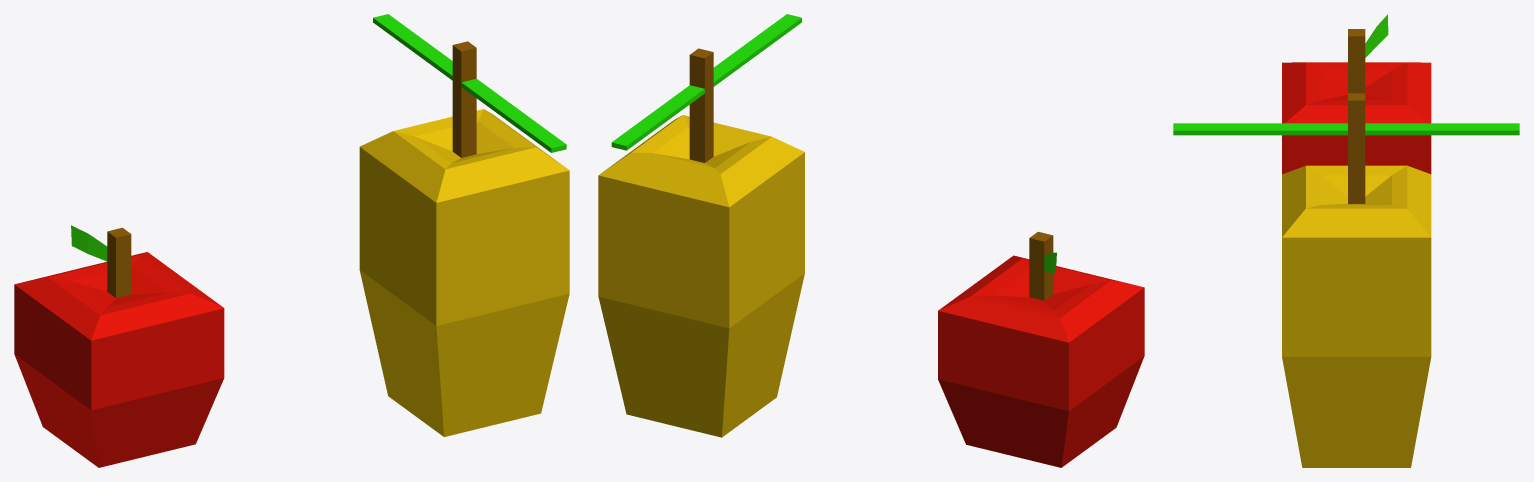
Rendered from fuits for ben.fbx.
The picture shows the model from 3 angles, left to right: view 1: azimuth 30°, elevation 25°; view 2: azimuth 150°, elevation 25°; view 3: azimuth 270°, elevation 25°; orthographic projection. The views are drawn at different scales.
Visible parts, largest first — view 1: Cube.001, Cube; view 2: Cube.001, Cube; view 3: Cube.001, Cube.
Part boxes in pixels (<box>): Cube.001: <box>359,14,569,436</box>; Cube: <box>14,225,224,467</box>; Cube.001: <box>598,14,804,437</box>; Cube: <box>938,231,1144,467</box>; Cube.001: <box>1173,93,1519,467</box>; Cube: <box>1282,14,1431,174</box>.
Bounding box in the file's own units: 718 × 514 × 464.
